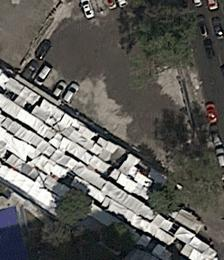parkingspot: (21, 54, 173, 164)
